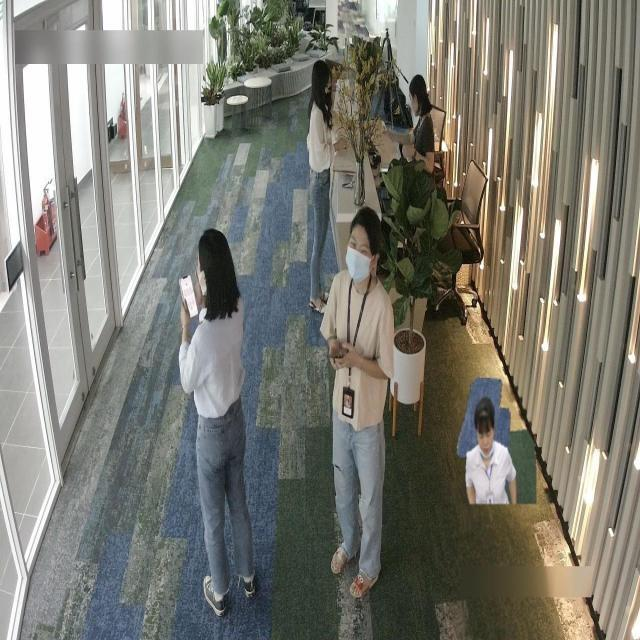hairnet: (477, 422, 496, 460)
